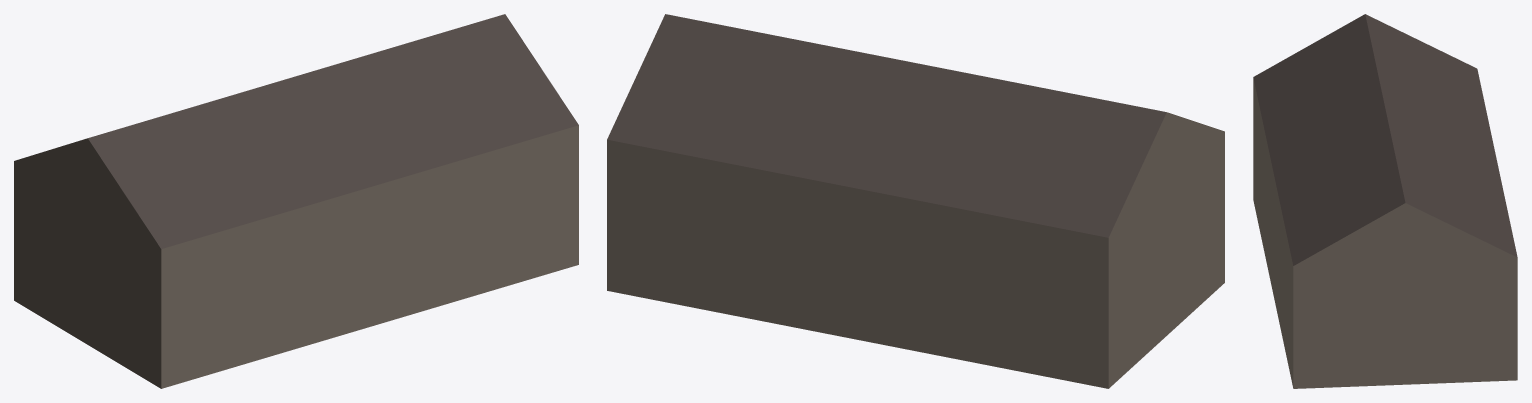
3 views of the same model, side by side, from view 1: azimuth 30°, elevation 25°; view 2: azimuth 150°, elevation 25°; view 3: azimuth 270°, elevation 25° (orthographic). The views are drawn at different scales.
Visible parts, largest first — view 1: HP-w859488911; view 2: HP-w859488911; view 3: HP-w859488911.
Part boxes in pixels (box(x1,y1,x2,y2)): HP-w859488911: box(14, 14, 578, 388); HP-w859488911: box(607, 14, 1224, 388); HP-w859488911: box(1253, 14, 1517, 388).
Bounding box in the file's own units: 20.71 × 8.88 × 11.71.
